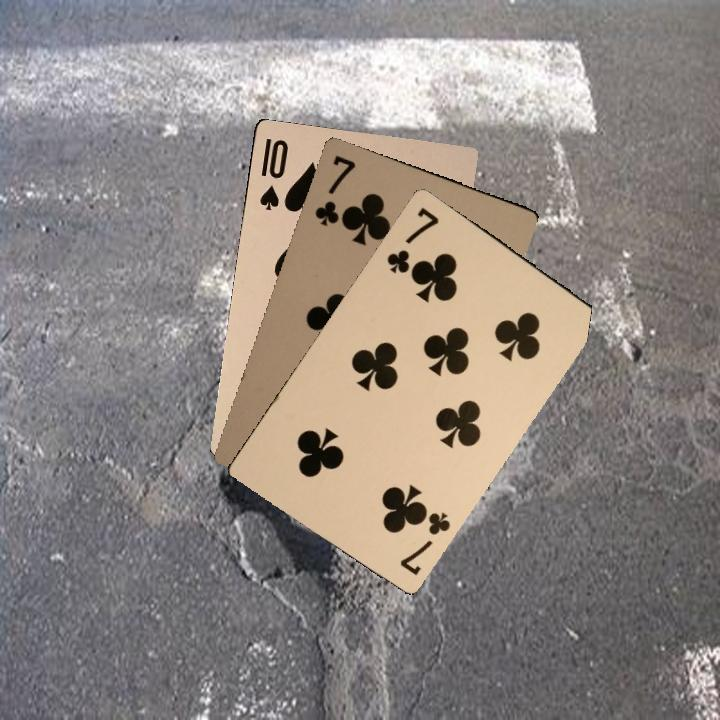10s: (255, 134, 291, 213)
7c: (395, 502, 453, 578), (382, 203, 442, 276), (310, 151, 359, 229)
